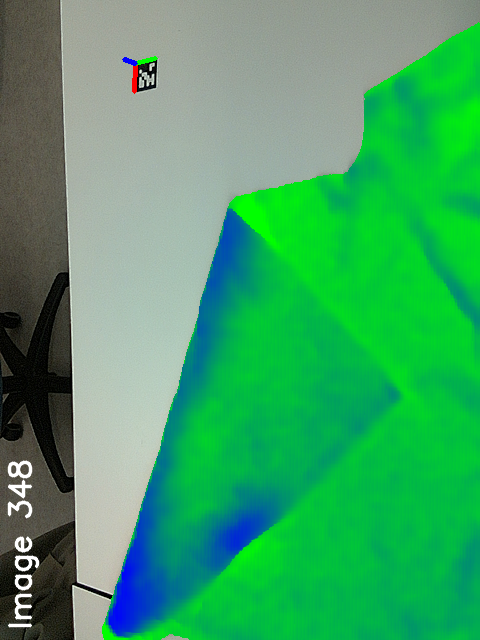V: (357, 360, 422, 423)
